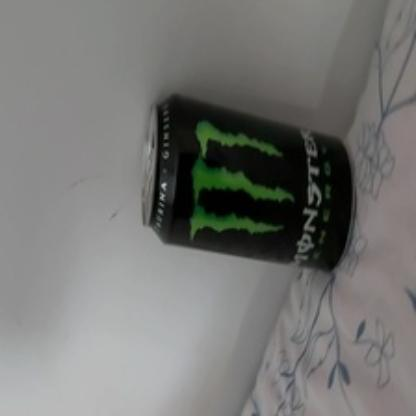Can: (138, 93, 356, 272)
